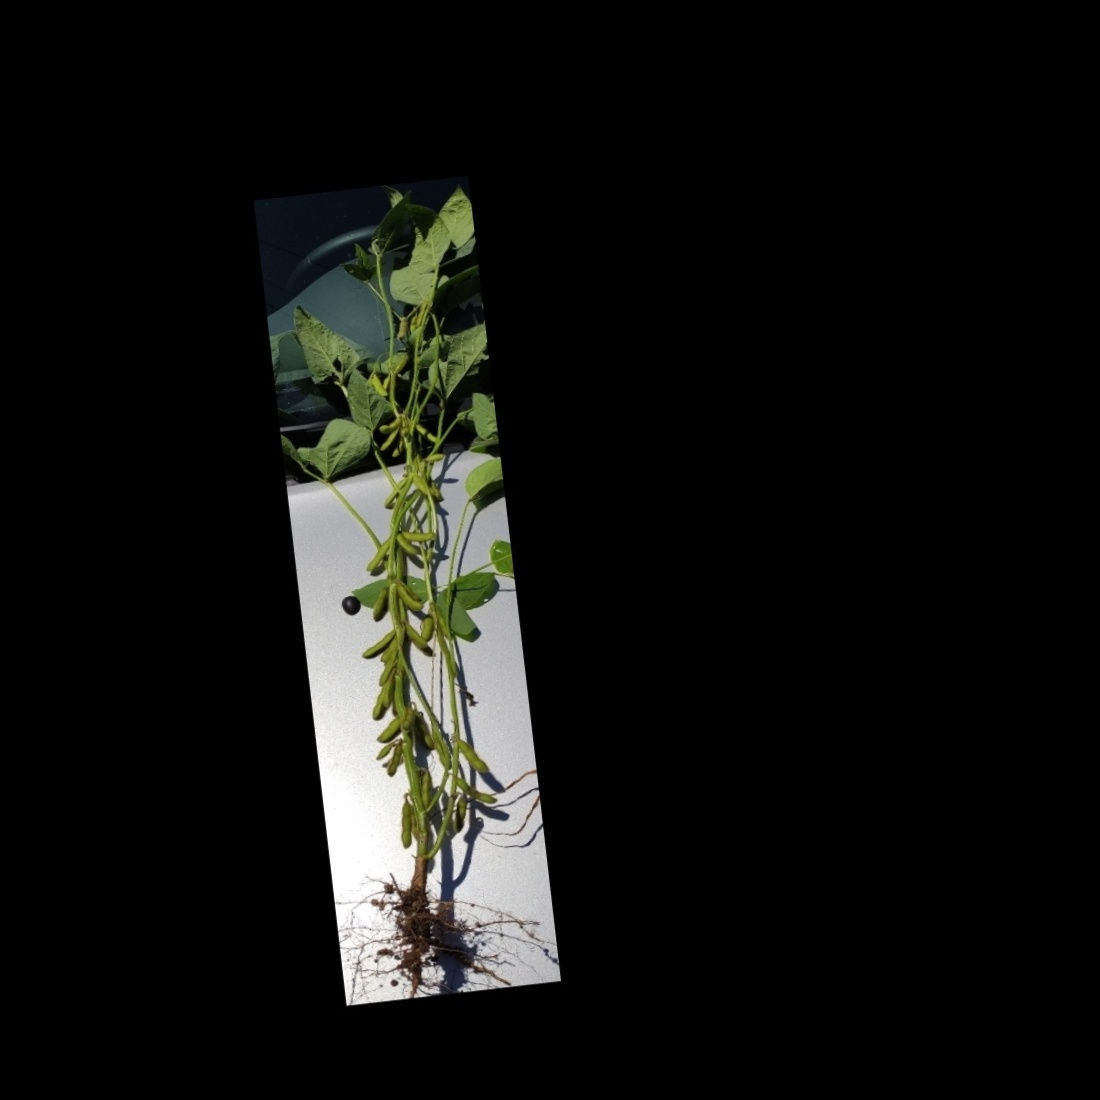pod: (452, 731, 490, 781), (455, 772, 498, 811), (358, 626, 403, 660), (392, 794, 419, 850), (399, 618, 433, 656), (362, 534, 392, 574), (365, 583, 393, 624), (395, 582, 426, 615), (382, 743, 408, 783), (369, 716, 402, 745), (397, 526, 439, 546), (376, 414, 404, 434)
soy: (255, 190, 552, 992)
